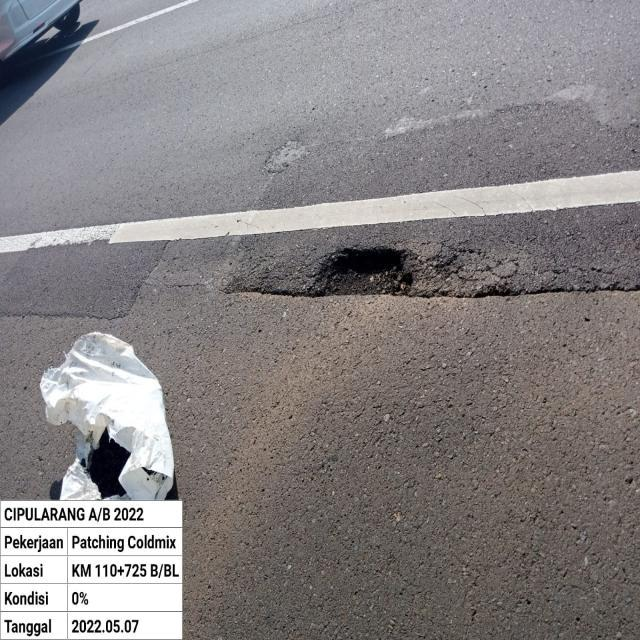Buraco: (310, 244, 428, 300)
